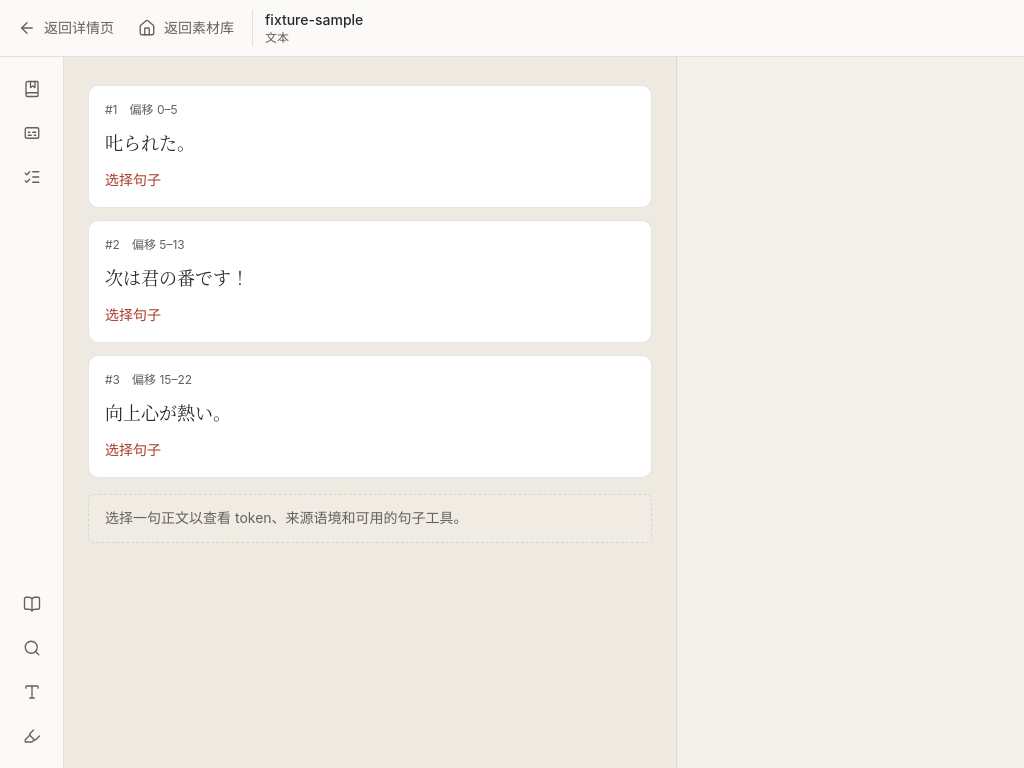
ReaderWorkspace RF-02 boundary › keeps existing non-EPUB token lookup inside the shared dictionary slot
The image size is (1024, 768).
Click the button "选择句子" below "偏移 5–13": (133, 315) [105,305,161,325]
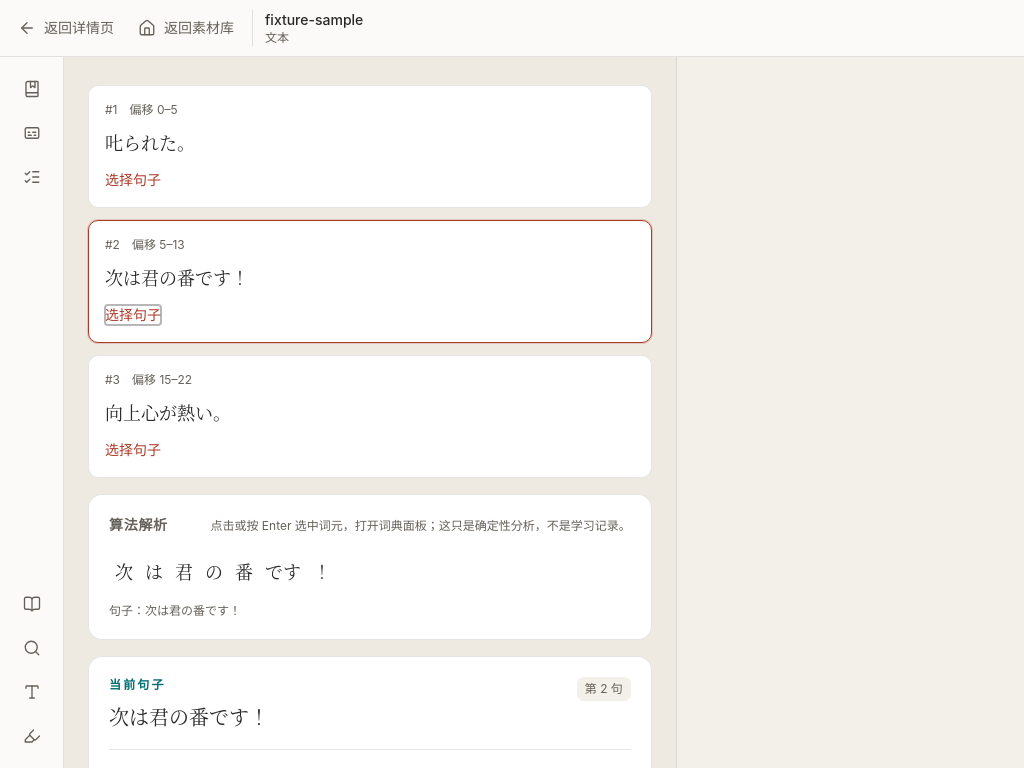
Click the button named "君，读音 キミ": (184, 571) [171,551,197,591]
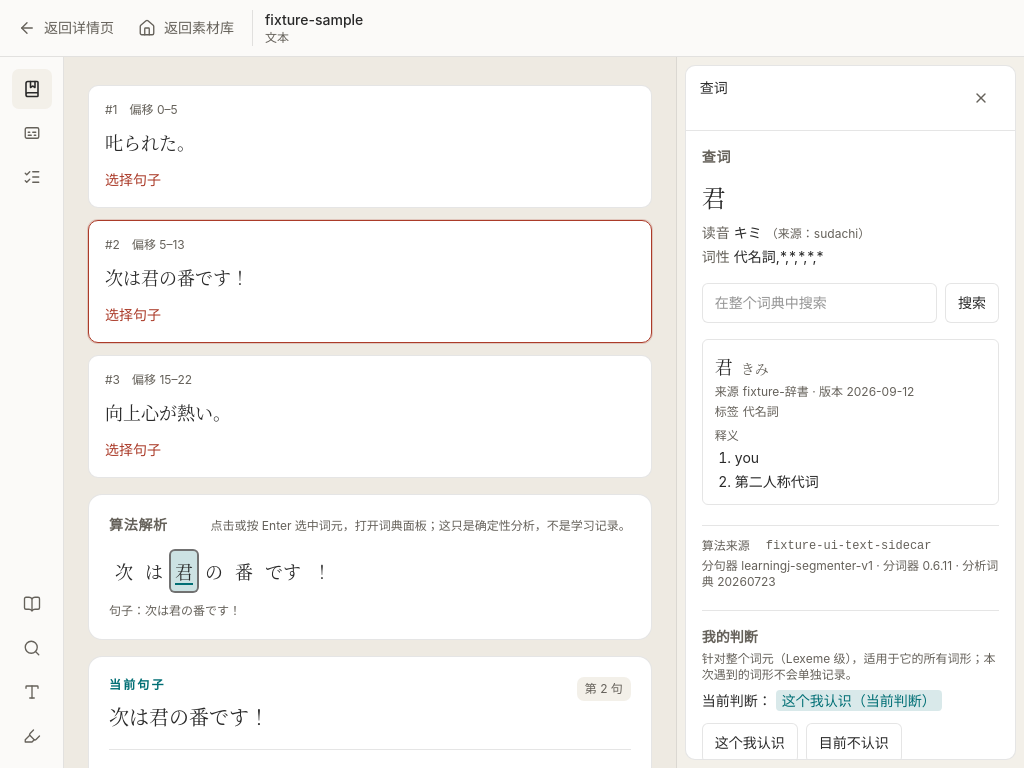
Result: the element "查词" shows "you" at [735,449,759,466]
Result: the element "查词" shows "fixture-辞書" at [743,384,809,399]
